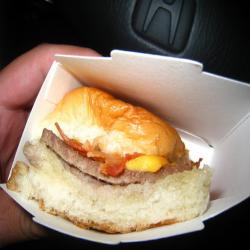burger: (4, 72, 232, 243)
